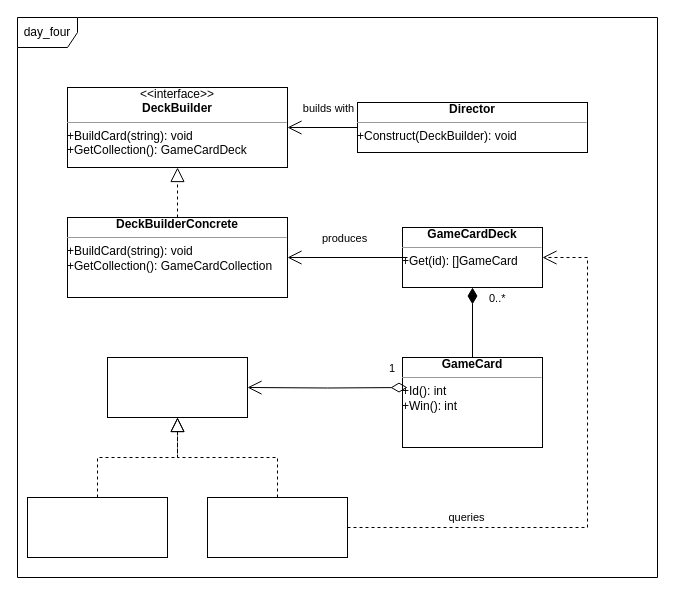
This 675x595 diagram has some shape labels left out. Here are the shapes that lost their labels. From the top down, the box of each, then its label:
(106, 356, 248, 418): <<interface>> WinBehavior +Win(int): int
(26, 496, 168, 558): PointsWinBehavior +Win(int): int
(206, 496, 348, 558): CardCopyWinBehavior +Win(int): int
